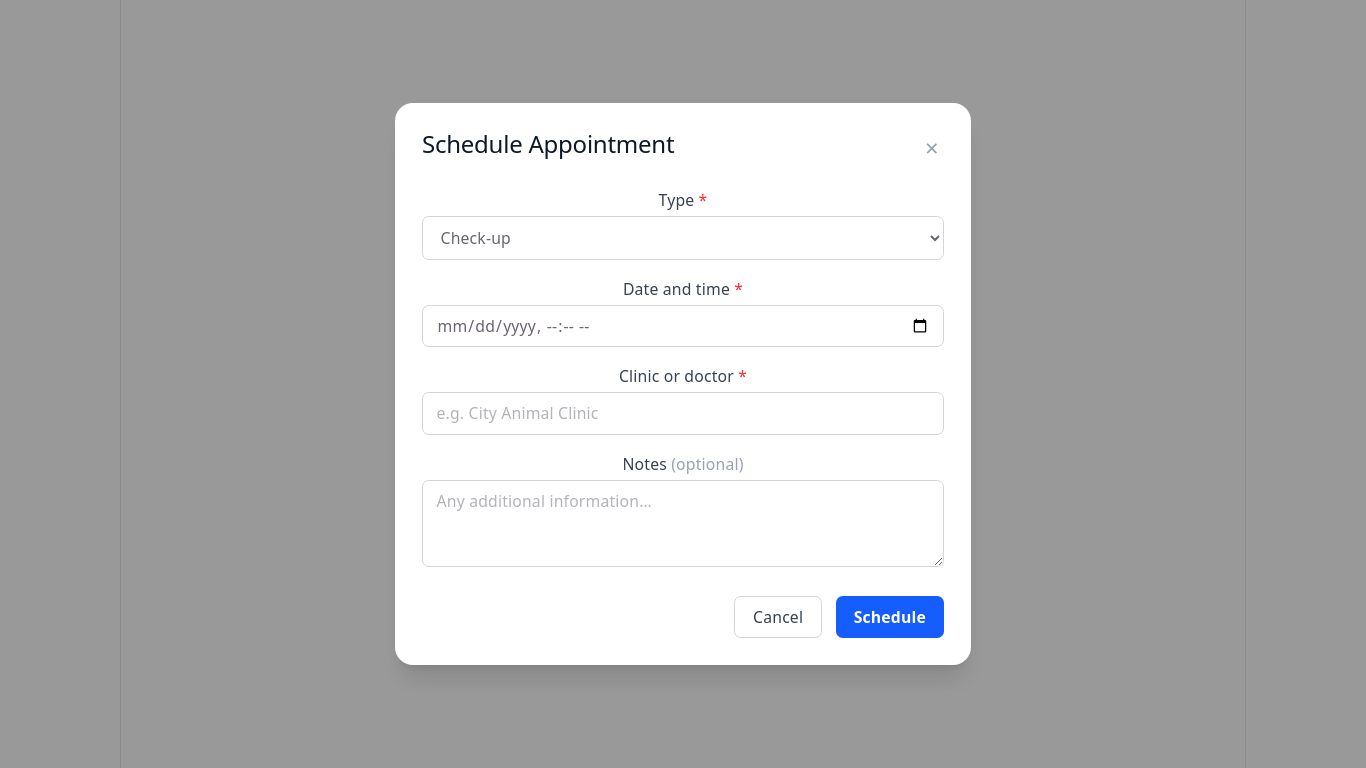
AppointmentFormModal › shows validation error when clinic field is empty
The image size is (1366, 768).
Click the button "Schedule" at (890, 617), box x1=836 y1=596 x2=944 y2=638
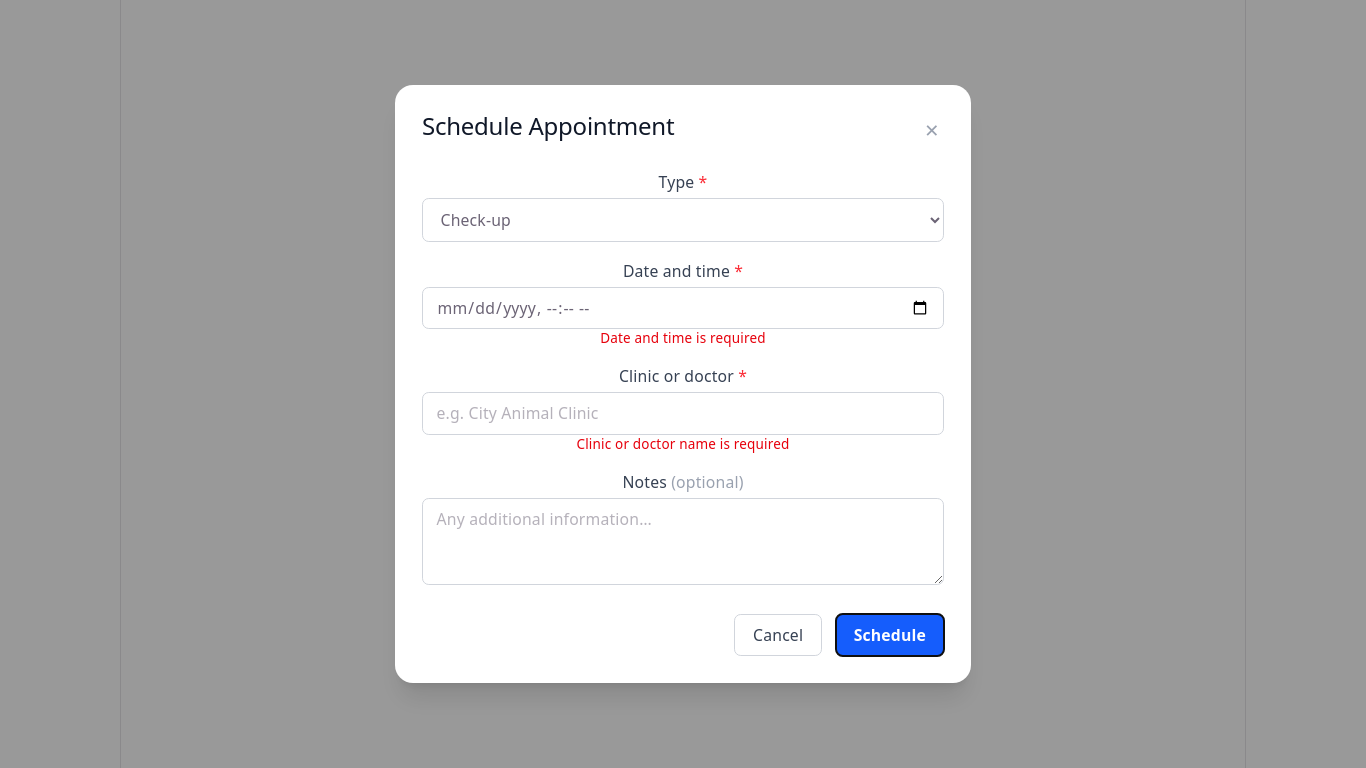
Result: the text "Clinic or doctor name is required" is shown at x1=576 y1=435 x2=790 y2=453
